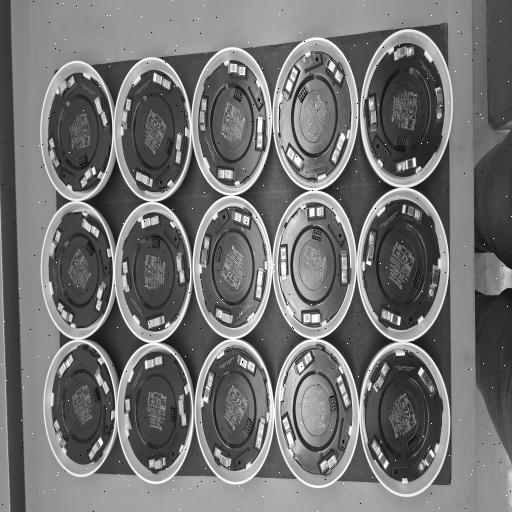konnektor: (328, 394, 338, 417), (297, 86, 309, 105), (395, 136, 410, 151), (76, 151, 90, 167), (309, 229, 325, 243), (406, 435, 419, 452), (413, 269, 423, 291), (164, 135, 174, 157), (244, 417, 254, 439), (92, 385, 100, 408), (149, 236, 162, 250), (84, 240, 94, 258), (169, 404, 176, 427), (233, 88, 243, 103), (215, 245, 223, 262)
yayli: (369, 438, 392, 474), (416, 361, 438, 397), (371, 360, 392, 394), (90, 94, 110, 128), (417, 441, 436, 476), (291, 350, 313, 380), (426, 260, 441, 304), (285, 143, 306, 174), (377, 306, 404, 329), (322, 57, 344, 85), (364, 227, 379, 268), (331, 128, 347, 166), (301, 199, 326, 223), (283, 65, 299, 102), (400, 200, 424, 224), (55, 74, 75, 102), (282, 415, 296, 455), (56, 352, 74, 382), (94, 362, 110, 395), (367, 94, 379, 138), (53, 418, 68, 453), (336, 373, 351, 408), (395, 155, 420, 176), (199, 233, 212, 272), (234, 351, 256, 374), (48, 228, 62, 264), (202, 370, 216, 406), (120, 96, 133, 134), (56, 301, 75, 327), (80, 216, 100, 240), (214, 446, 234, 470), (255, 410, 267, 450), (320, 448, 340, 472), (392, 44, 416, 64), (80, 164, 98, 190), (174, 129, 186, 168), (151, 70, 173, 91), (146, 311, 168, 332), (174, 248, 186, 286), (48, 136, 61, 171), (95, 278, 108, 312), (135, 169, 156, 190), (215, 305, 235, 327), (230, 209, 253, 228), (88, 435, 104, 462), (121, 258, 132, 297), (434, 82, 444, 124), (177, 390, 188, 428), (226, 60, 249, 78), (278, 244, 288, 284), (147, 453, 168, 472), (139, 214, 161, 232), (254, 264, 264, 303), (301, 310, 325, 326), (143, 354, 164, 372), (217, 167, 238, 185), (198, 97, 208, 134), (256, 108, 264, 154), (123, 395, 132, 435), (340, 246, 348, 290)
